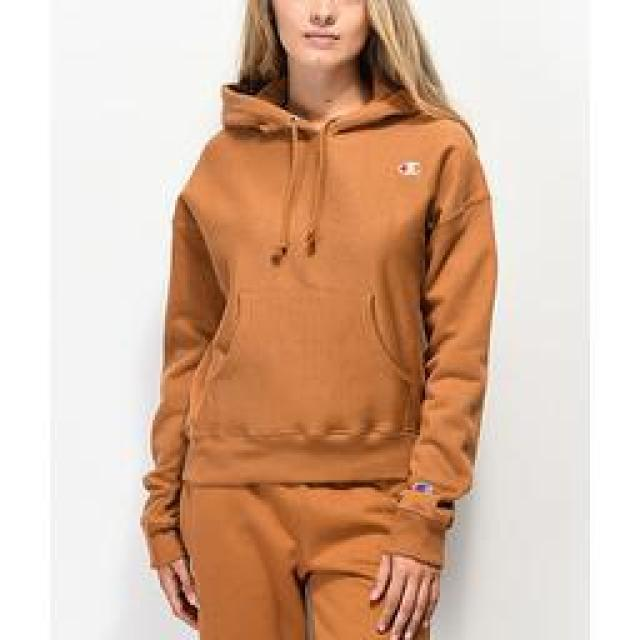sweater: (138, 80, 500, 568)
